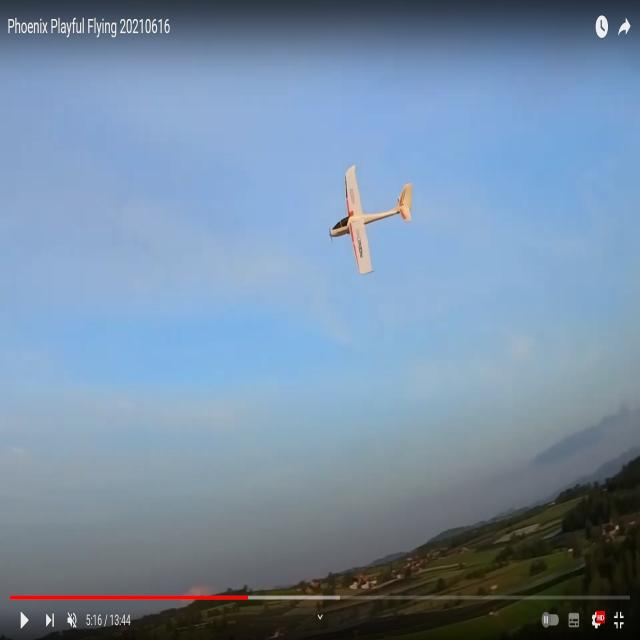iha: (360, 198, 382, 240)
